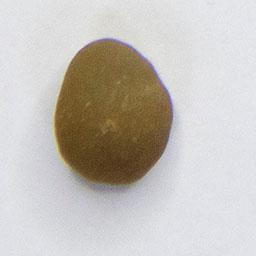defect: (51, 35, 177, 189)
